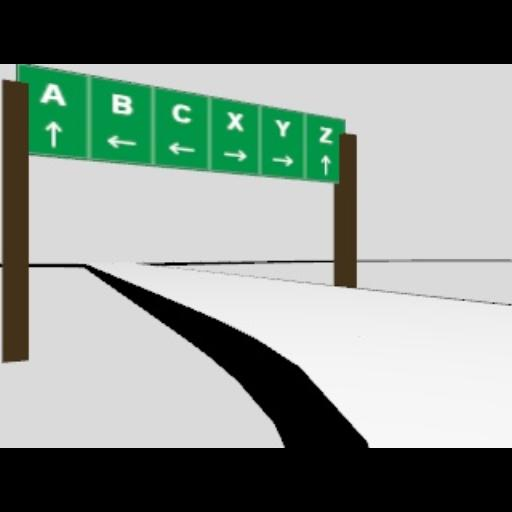A: (40, 82, 66, 104)
B: (111, 92, 133, 114)
C: (172, 102, 192, 124)
Left: (104, 135, 138, 149), (166, 141, 196, 155)
Right: (222, 148, 248, 162), (270, 154, 294, 166)
Straight: (45, 120, 61, 148), (320, 154, 332, 174)
X: (225, 110, 243, 130)
Y: (274, 118, 290, 136)
Z: (317, 125, 333, 143)
